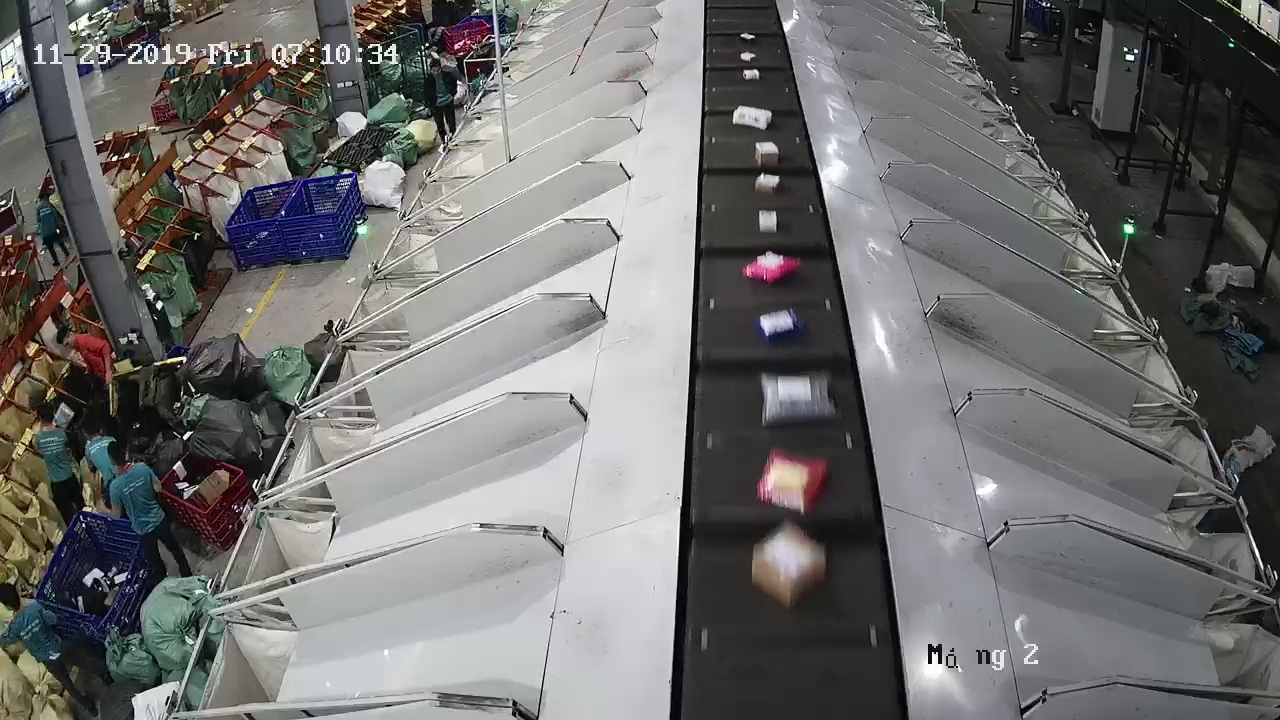parcel: (751, 519, 828, 611), (756, 447, 831, 516), (759, 369, 842, 429), (742, 251, 803, 286), (757, 306, 807, 344), (754, 172, 782, 196), (754, 141, 780, 166), (759, 209, 777, 234)
